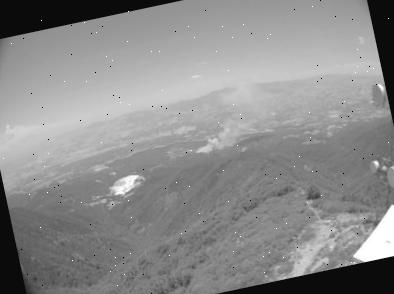smoke: (182, 73, 289, 157)
